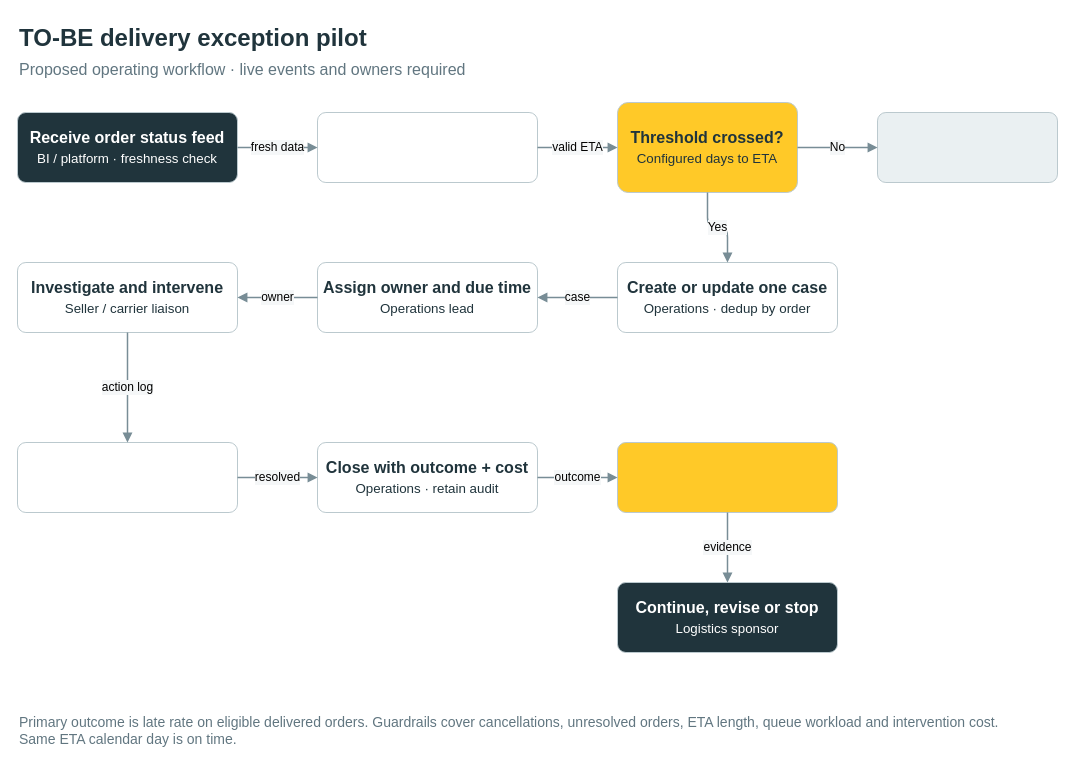
This 1075x784 diagram has some shape labels left out. The shapes that lost their labels are listed below. From the top down, each one's box as (x1, y1, x2, y2) in pixels, then its label:
(316, 112, 538, 182): Evaluate open orders Exclude delivered / canceled
(876, 112, 1058, 182): Continue monitoring No active case
(16, 442, 238, 512): Monitor until resolution CX · escalation if overdue
(616, 442, 838, 512): Evaluate pilot vs comparator BA / BI · 30/60/90-day review
